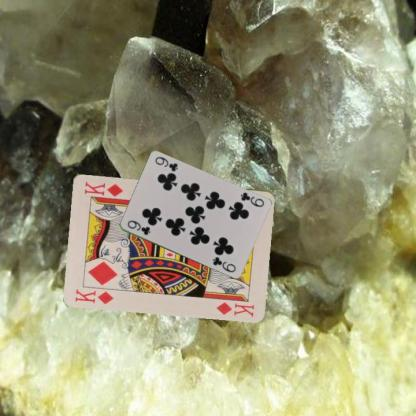9c: (238, 190, 265, 209), (124, 218, 152, 236)
Kd: (73, 286, 115, 305)
